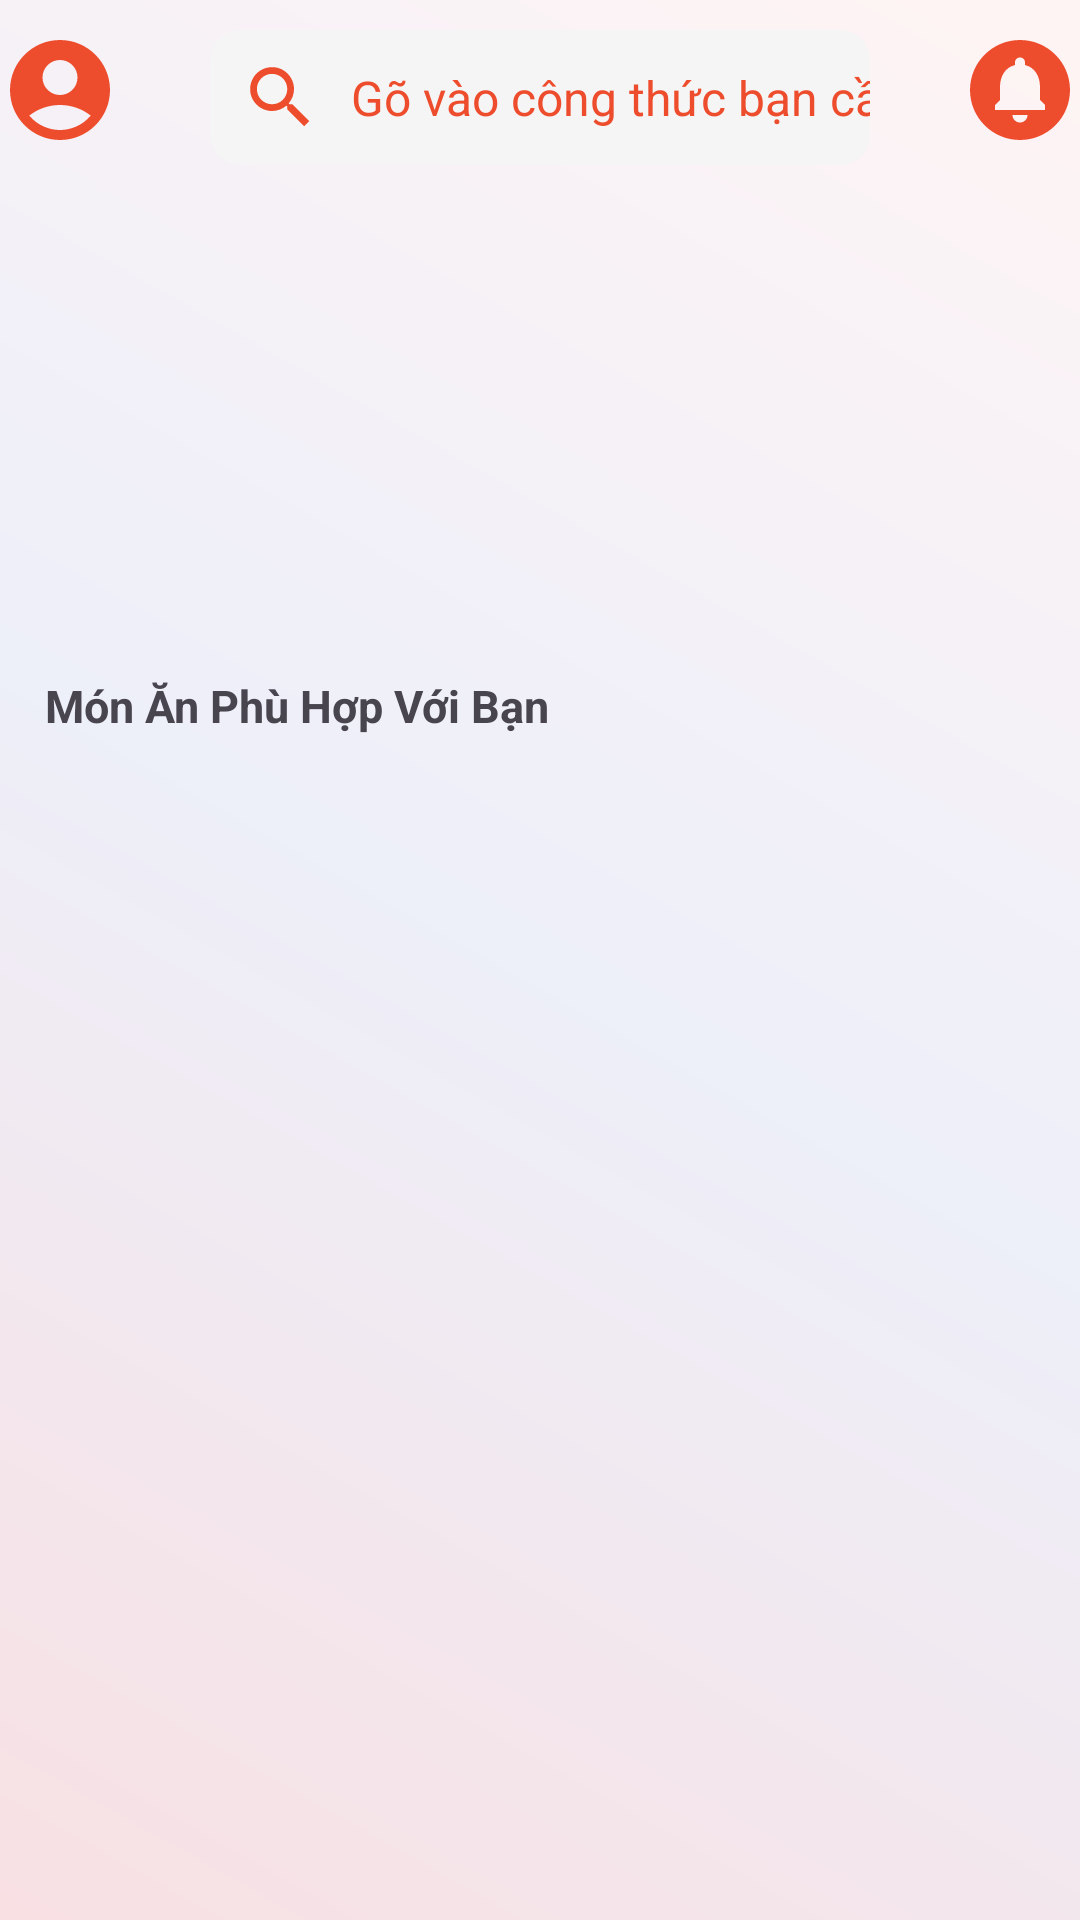

Named icons in this screenshot (1080x1920) and their centers, (x=x, y=y):
notification: (x=1020, y=90)
profile: (x=60, y=90)
